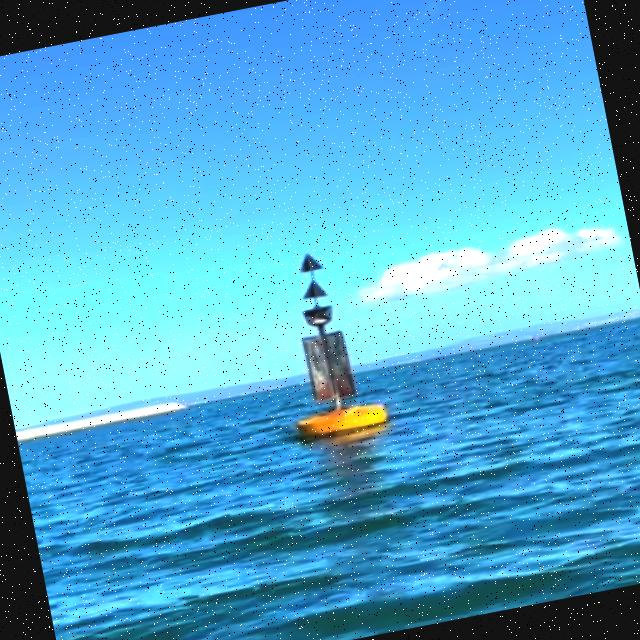marque: (257, 243, 393, 445)
